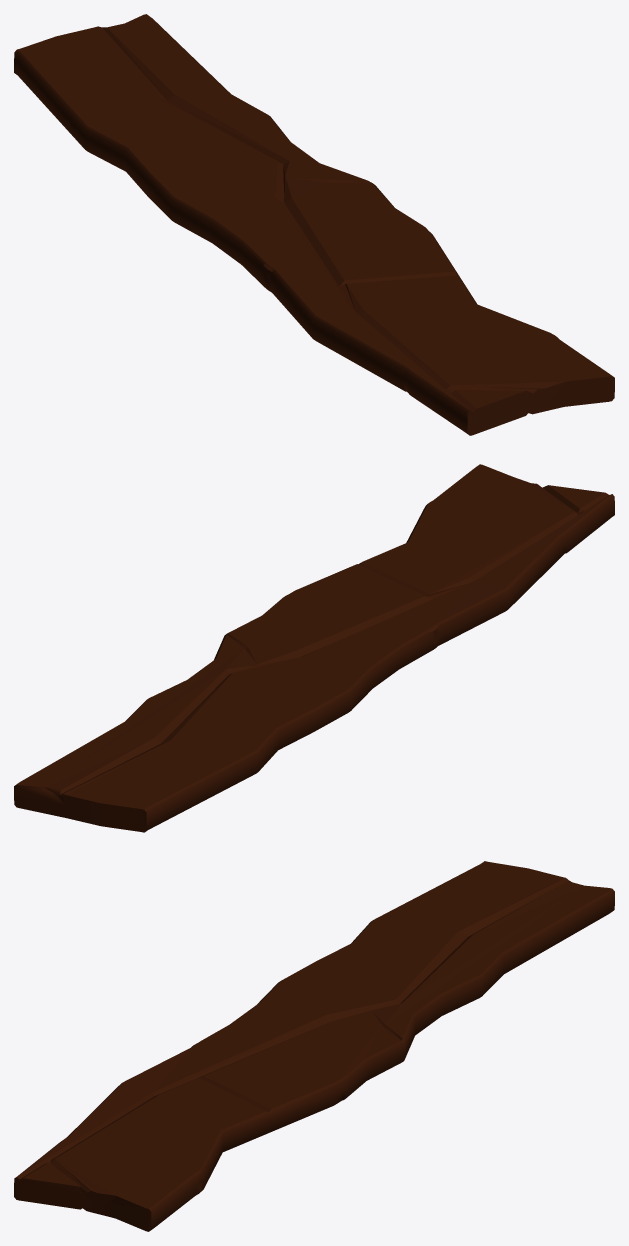
The model's file is Plank3.fbx.
The picture shows the model from 3 angles, top to bottom: view 1: azimuth 30°, elevation 25°; view 2: azimuth 150°, elevation 25°; view 3: azimuth 330°, elevation 25°; orthographic projection. The views are drawn at different scales.
Visible parts, largest first — view 1: Plank001; view 2: Plank001; view 3: Plank001.
Part boxes in pixels (x1,y1,x2,y2): Plank001: [14, 14, 614, 435]; Plank001: [14, 464, 614, 832]; Plank001: [14, 861, 614, 1231].
Size of the model in its own units: 23.61 by 3.21 by 106.
